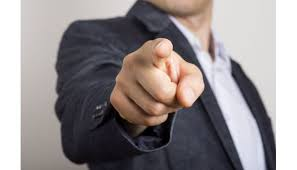hand: (100, 31, 212, 130)
